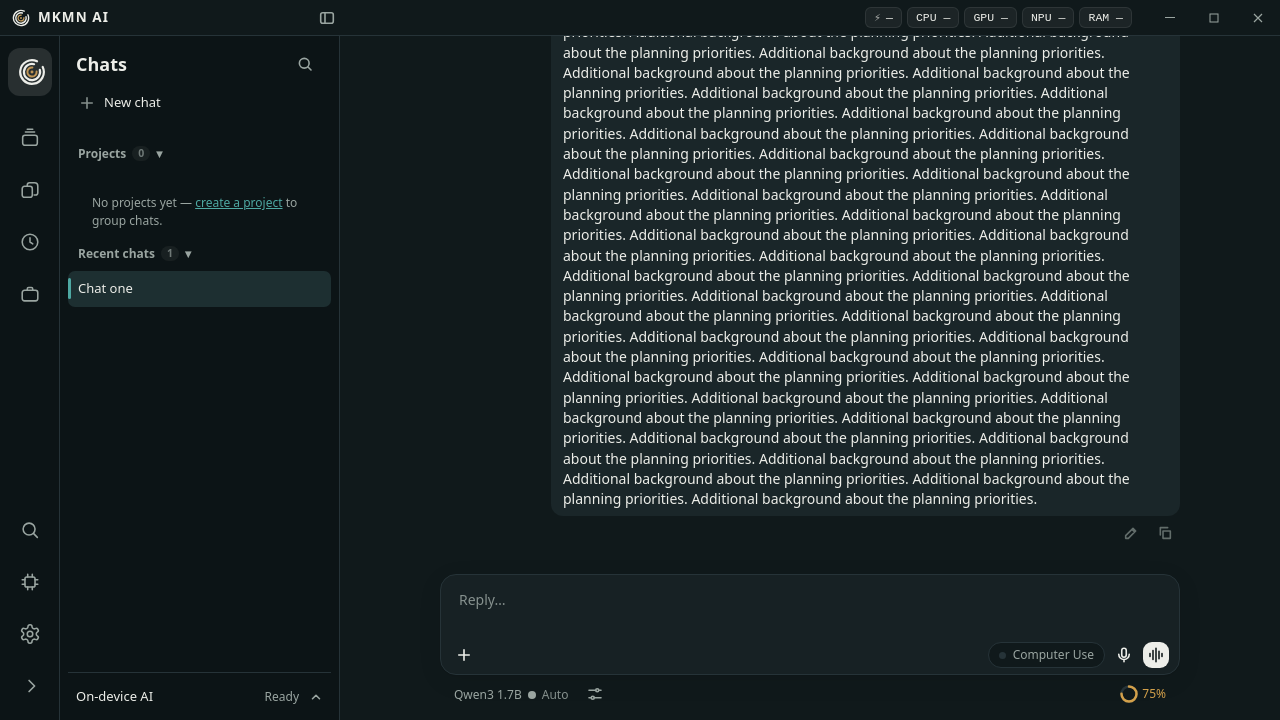
one message, one request › explains high estimated context with a large PDF and no eligible history
The width and height of the screenshot is (1280, 720).
(page scrolled)
Click the button "Chat one" at (200, 288), box x1=78 y1=279 x2=321 y2=298
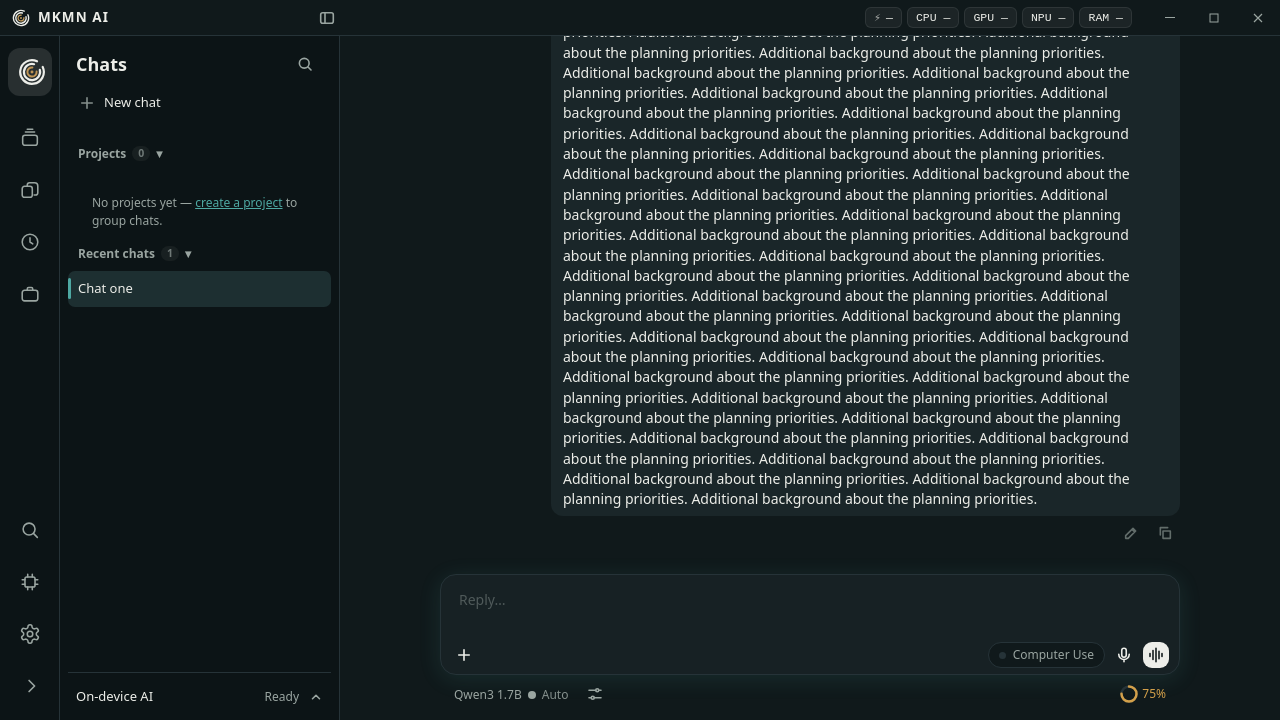
Click the button "75%" at (1143, 694), box x1=1114 y1=681 x2=1172 y2=707
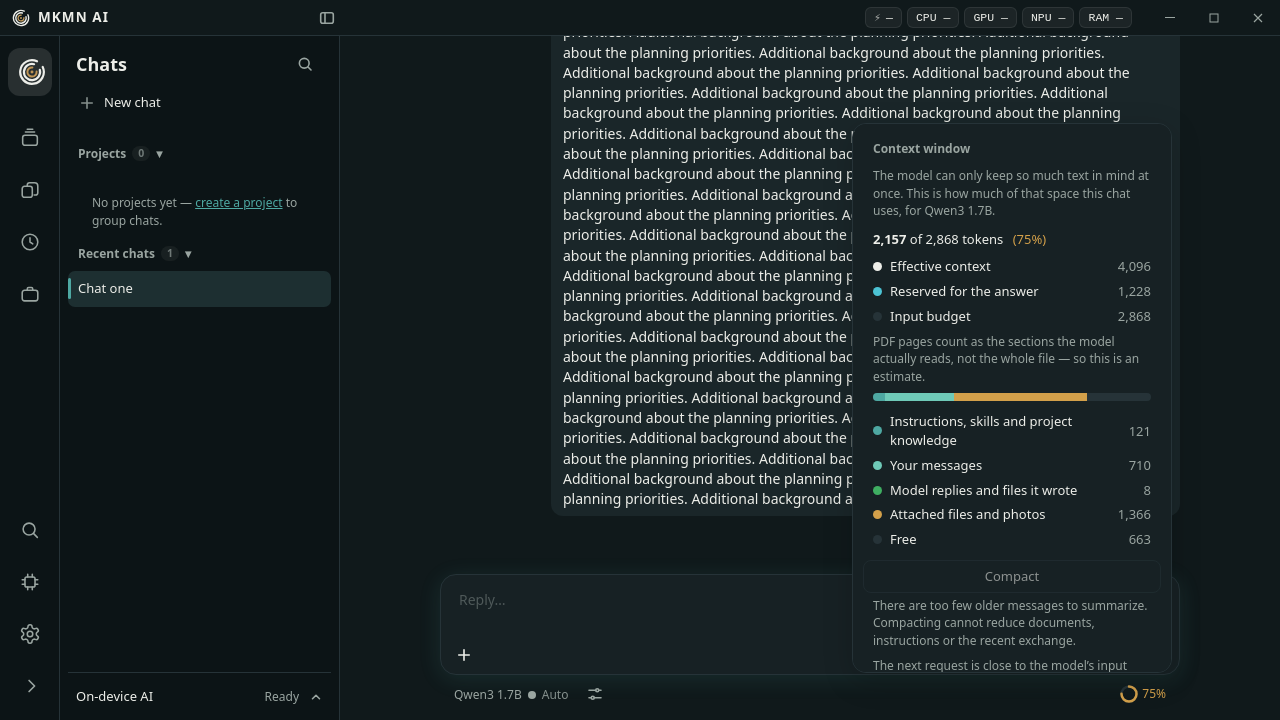
Expected: the button "Compact" is disabled, x1=863 y1=560 x2=1161 y2=593
Expected: the text "Compacting cannot reduce documents" is shown, x1=873 y1=597 x2=1148 y2=649
